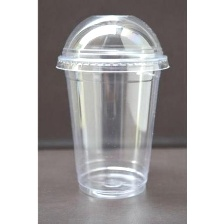glass: (48, 8, 173, 203)
